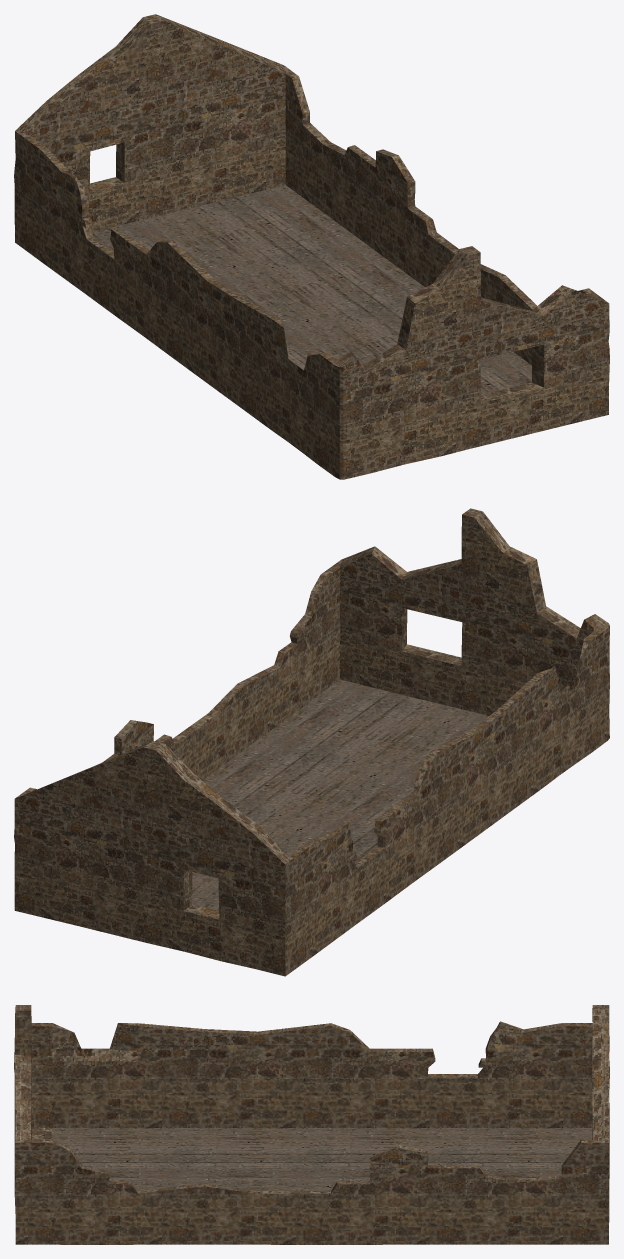
Rendered from GD 3D Home Ruins 1 Bricks.fbx.
3 views of the same model, one above another, from view 1: azimuth 30°, elevation 25°; view 2: azimuth 150°, elevation 25°; view 3: azimuth 270°, elevation 25° (orthographic). The views are drawn at different scales.
Parts seen in each view (by area): view 1: Home Ruins 1 IVG stone; view 2: Home Ruins 1 IVG stone; view 3: Home Ruins 1 IVG stone.
Part boxes in pixels (bbox=[...]): Home Ruins 1 IVG stone: bbox=[14, 14, 609, 479]; Home Ruins 1 IVG stone: bbox=[14, 508, 609, 976]; Home Ruins 1 IVG stone: bbox=[14, 1005, 609, 1244].
Size of the model in its own units: 740 by 502 by 1529.
